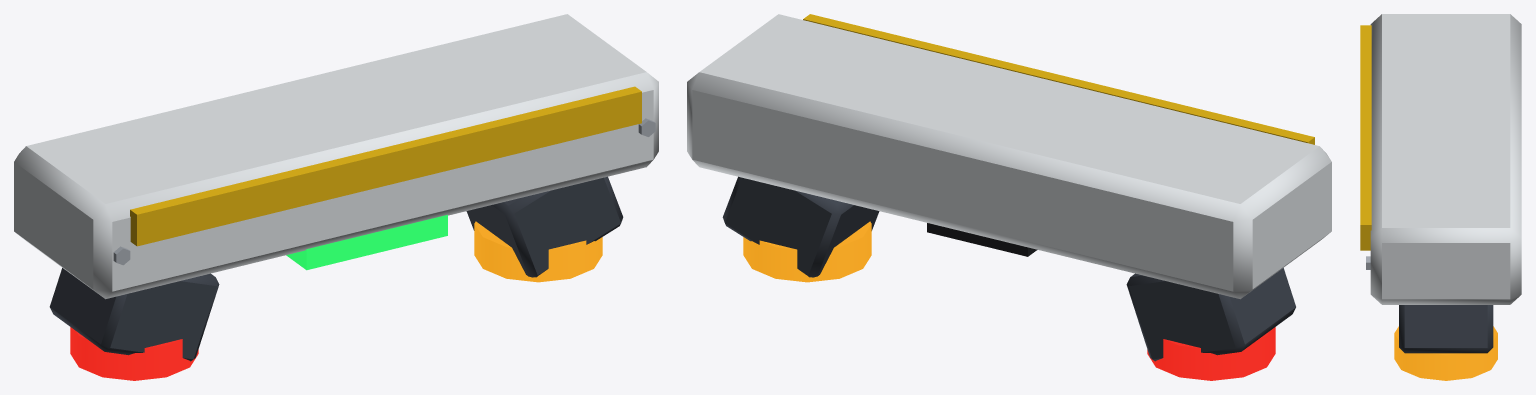
File: ceilinglight_emergency_fixture.glb
The picture shows the model from 3 angles, left to right: view 1: azimuth 30°, elevation 25°; view 2: azimuth 150°, elevation 25°; view 3: azimuth 270°, elevation 25°; orthographic projection. The views are drawn at different scales.
Visible parts, largest first — view 1: ceilinglight_emergency_fixture; view 2: ceilinglight_emergency_fixture; view 3: ceilinglight_emergency_fixture.
Boxes of the visible parts, x1,y1,x2,y2 form: ceilinglight_emergency_fixture: (14, 14, 658, 380); ceilinglight_emergency_fixture: (687, 14, 1331, 380); ceilinglight_emergency_fixture: (1360, 14, 1521, 380).
Bounding box in the file's own units: 0.56 × 0.185 × 0.171.
